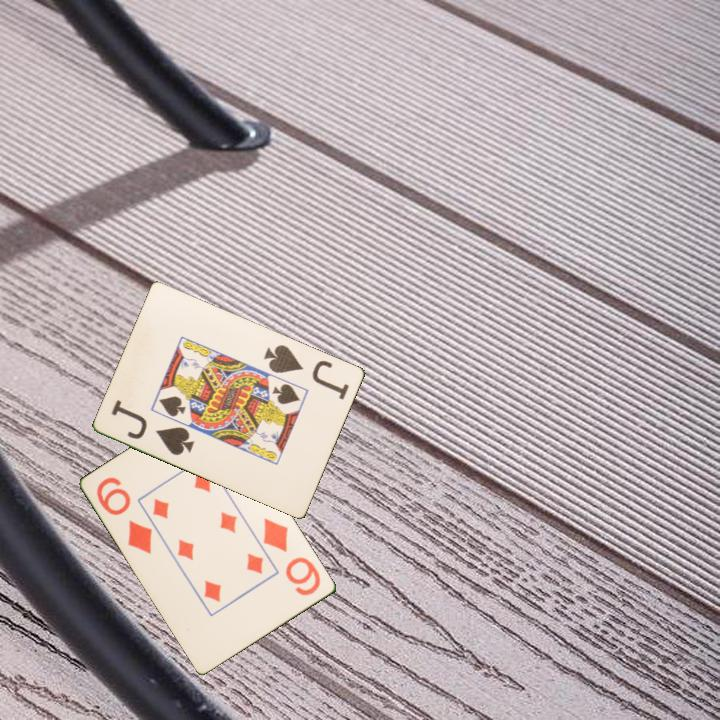6d: (260, 514, 324, 599), (93, 473, 156, 557)
Js: (260, 341, 352, 403), (108, 396, 198, 458)
